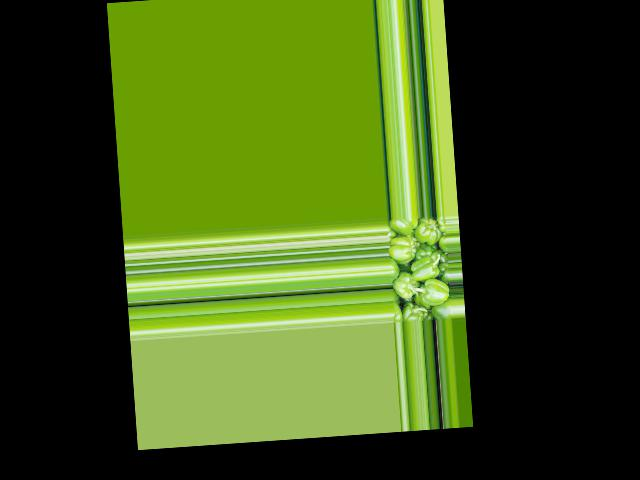bell_pepper: (431, 296, 452, 320)
